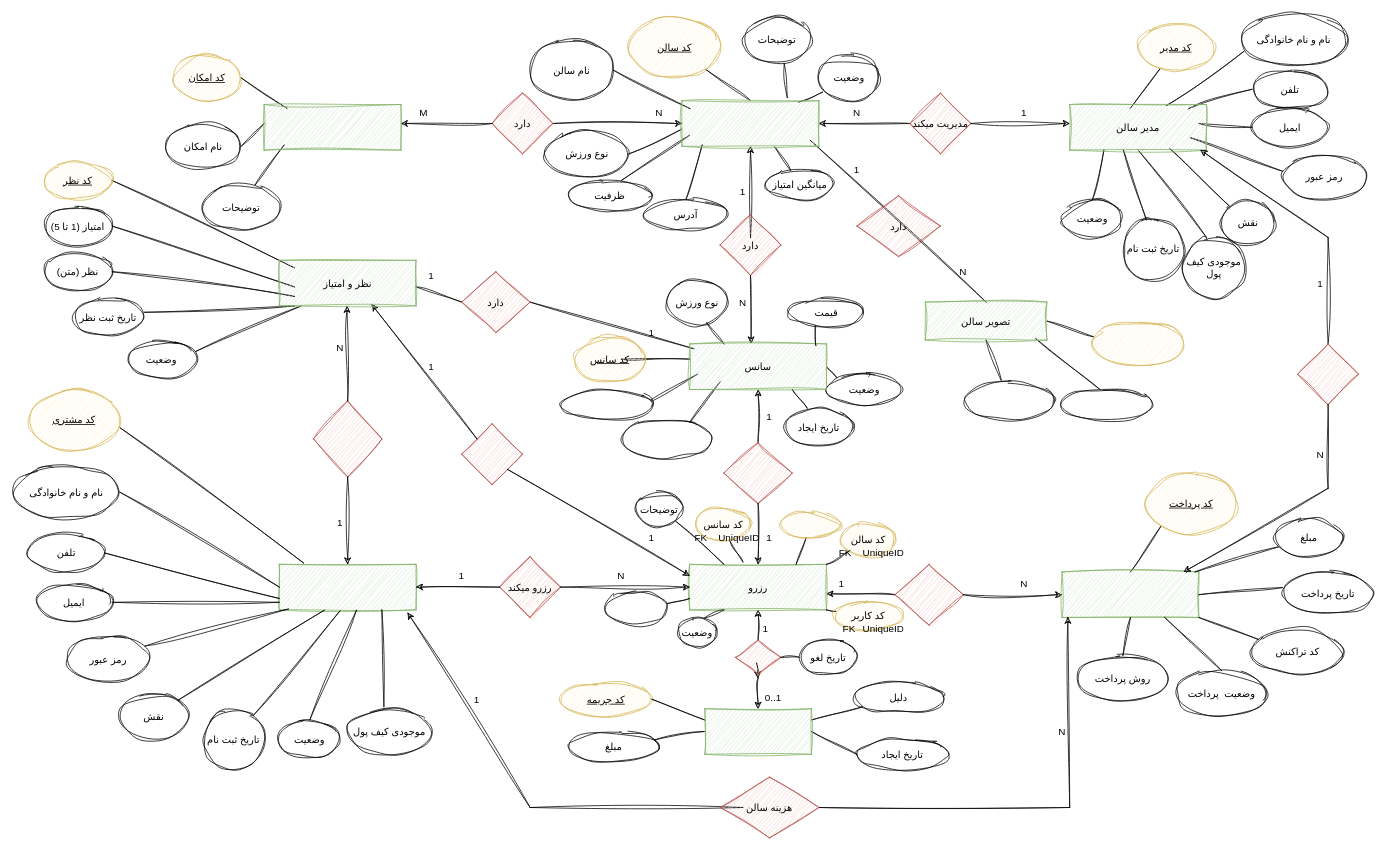
The diagram is 1387 pixels wide and 851 high, and some of its shapes have lost their labels. Each missing label, with the centre of its shape:
"آدرس تصویر" belongs at point (1107, 404).
"امکانات" belongs at point (332, 127).
"ایجاد میکند" belongs at point (758, 657).
"برداشت" belongs at point (1327, 374).
"تاریخ بارگذاری" belongs at point (1008, 400).
"تاریخ و ساعت رزرو" belongs at point (636, 607).
"تاریخ و ساعت شروع" belongs at point (606, 404).
"تاریخ و ساعت پایان" belongs at point (666, 438).
"ثبت میشود" belongs at point (928, 594).
"ثبت میکند" belongs at point (347, 438).
"جریمه لغو" belongs at point (757, 731).
"رزرو میشود" belongs at point (757, 473).
"سالن" belongs at point (750, 123).
"مرتبط است با" belongs at point (491, 453).
"مشتری" belongs at point (347, 587).
"پرداخت" belongs at point (1130, 594).
"کد تصویر" belongs at point (1138, 343).
"کد رزرو" belongs at point (811, 524).
